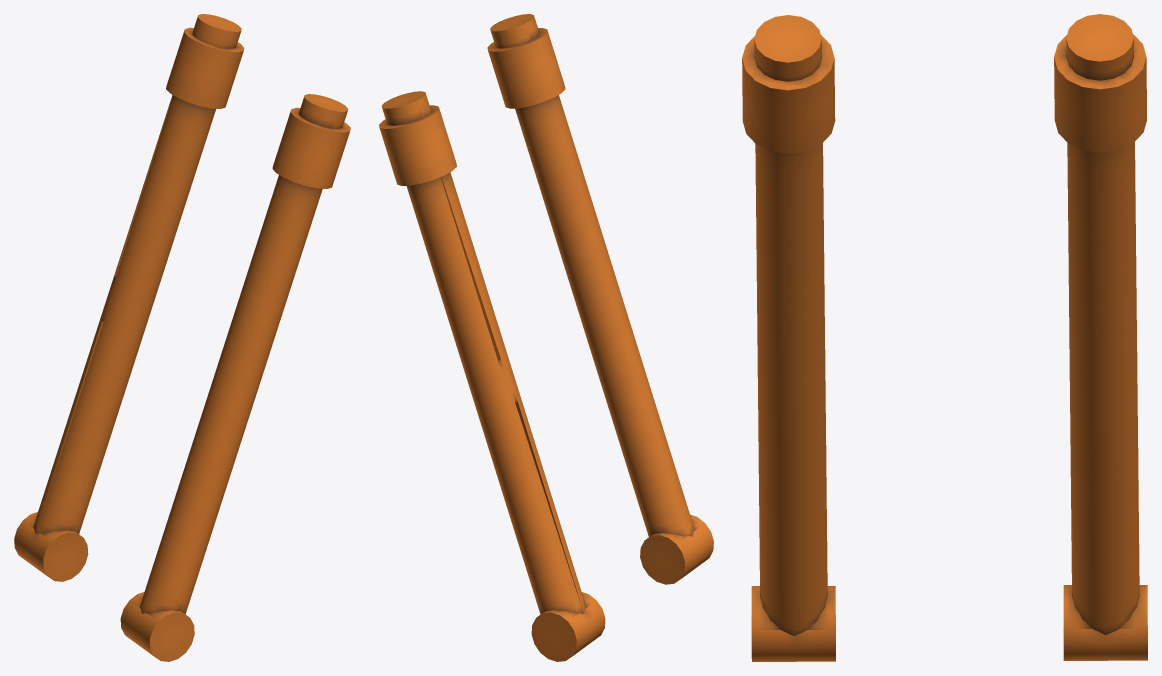
Rendered from zx200-boom-cyl1.dae.
3 renders of one model, left to right at view 1: azimuth 30°, elevation 25°; view 2: azimuth 150°, elevation 25°; view 3: azimuth 270°, elevation 25°, orthographic. The views are drawn at different scales.
Parts seen in each view (by area): view 1: body-boom-cyl1.002; view 2: body-boom-cyl1.002; view 3: body-boom-cyl1.002.
Part boxes in pixels (x1=…): body-boom-cyl1.002: x1=14, y1=14, x2=350, y2=661; body-boom-cyl1.002: x1=379, y1=14, x2=713, y2=661; body-boom-cyl1.002: x1=742, y1=14, x2=1147, y2=661.
Size of the model in its own units: 0.7053 by 0.8099 by 1.65.
1 material, 1 textured.
